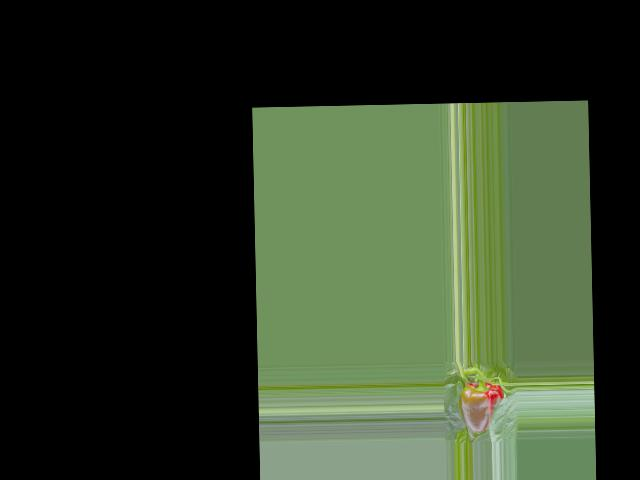bell_pepper: (454, 374, 507, 436)
